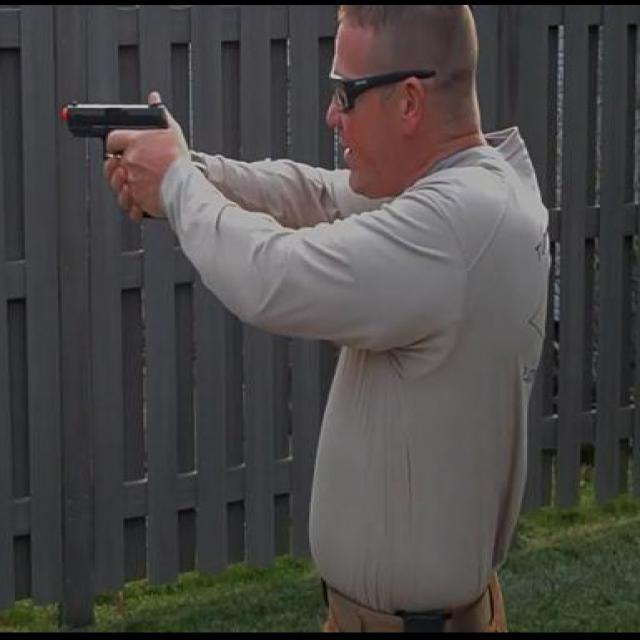Gun: (60, 91, 179, 218)
